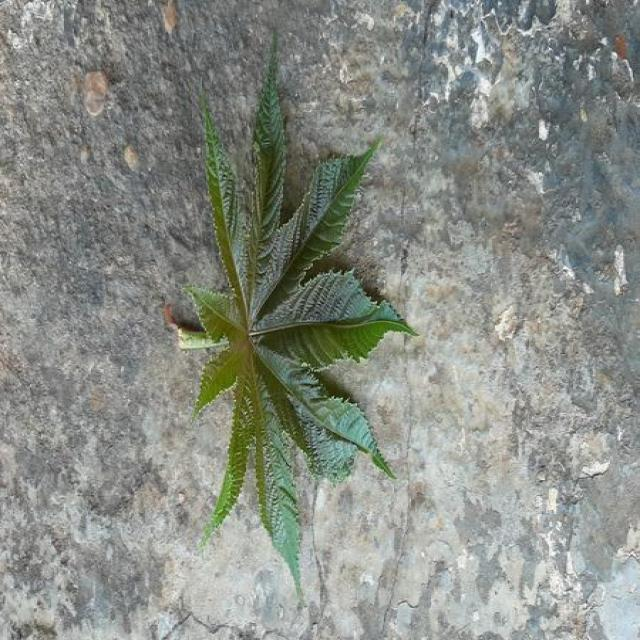seedling blight: (178, 44, 413, 584)
